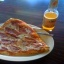pizza: (1, 17, 49, 55)
